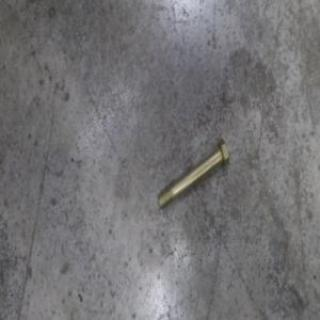Bolttrack_idkeyframe: (155, 136, 230, 210)
